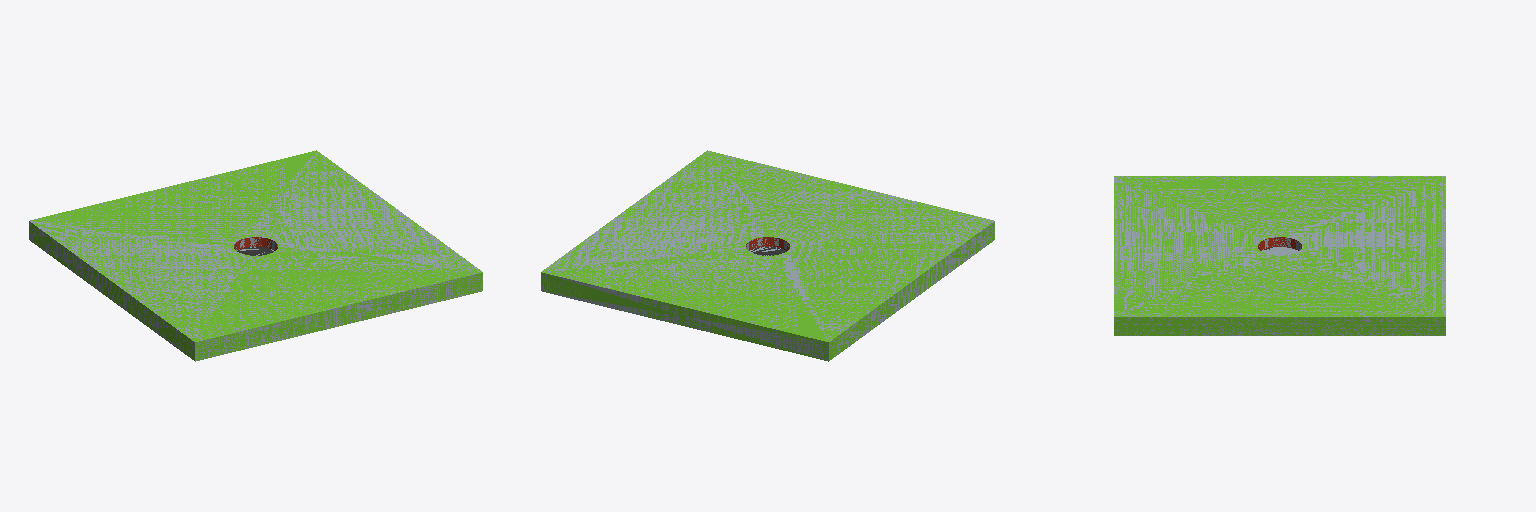
The model's file is Hole_open_01.obj.
3 views of the same model, side by side, from view 1: azimuth 30°, elevation 25°; view 2: azimuth 150°, elevation 25°; view 3: azimuth 270°, elevation 25° (orthographic).
Parts seen in each view (by area): view 1: Mesh1 Hole_open Model; view 2: Mesh1 Hole_open Model; view 3: Mesh1 Hole_open Model.
Boxes of the visible parts, box(x1,y1,x2,y2) form: Mesh1 Hole_open Model: box(29, 150, 482, 361); Mesh1 Hole_open Model: box(541, 150, 994, 361); Mesh1 Hole_open Model: box(1114, 176, 1445, 335).
Size of the model in its own units: 3 by 0.19 by 3.